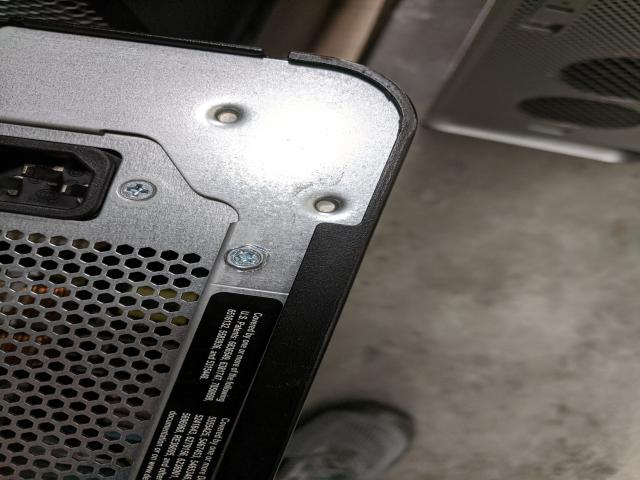CRS: (223, 246, 270, 273), (114, 180, 158, 201)
